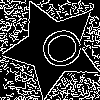O: (28, 22, 87, 78)
